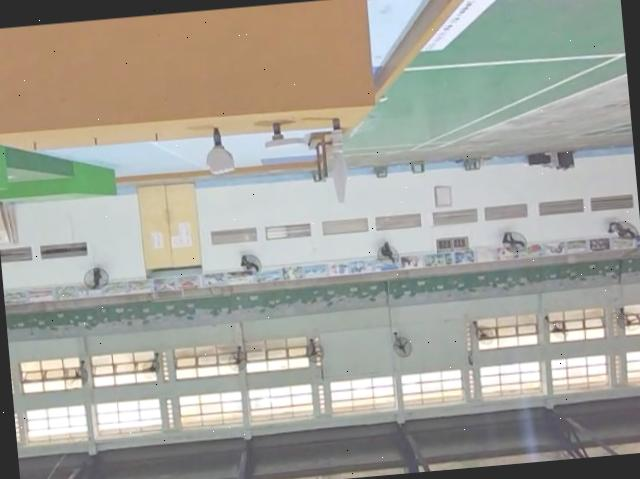Fist: (203, 122, 240, 172)
Hand: (256, 118, 305, 154)
Sph: (324, 116, 352, 206)
